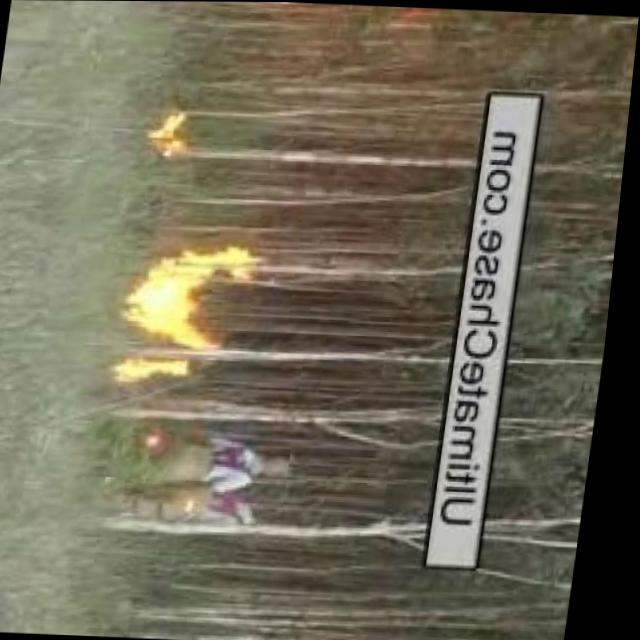Fire: (126, 236, 247, 345), (142, 100, 197, 155), (117, 354, 194, 383)
